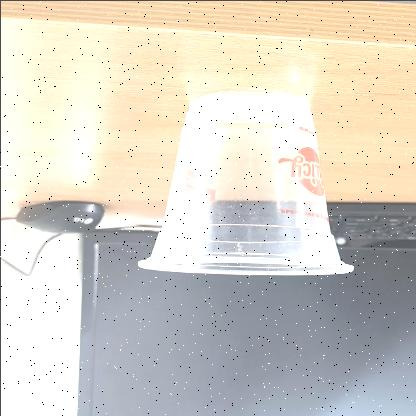Others: (134, 89, 354, 279)
